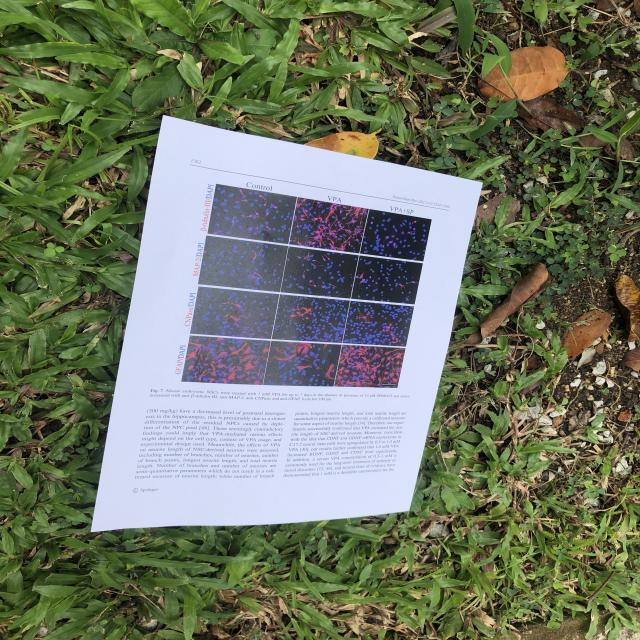document: (92, 118, 482, 531)
